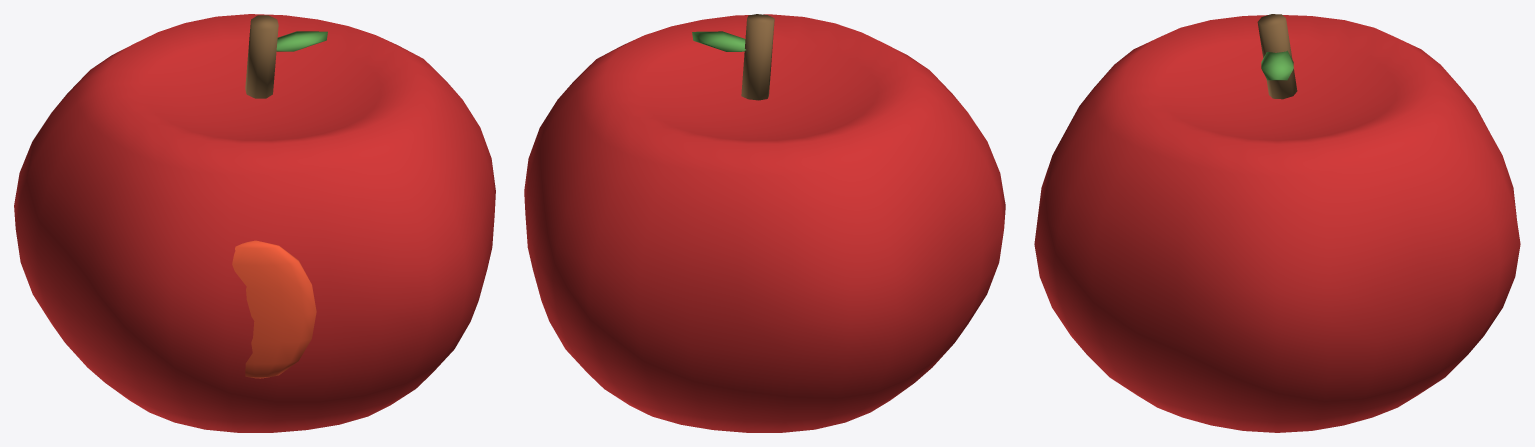
File: apple.glb
3 renders of one model, left to right at view 1: azimuth 30°, elevation 25°; view 2: azimuth 150°, elevation 25°; view 3: azimuth 270°, elevation 25°, orthographic.
Visible parts, largest first — view 1: apple; view 2: apple; view 3: apple.
Part boxes in pixels (x1,y1,x2,y2): apple: (14,14,495,432); apple: (524,14,1005,432); apple: (1034,14,1520,432).
Bounding box in the file's own units: 0.9862 × 0.8362 × 1.
